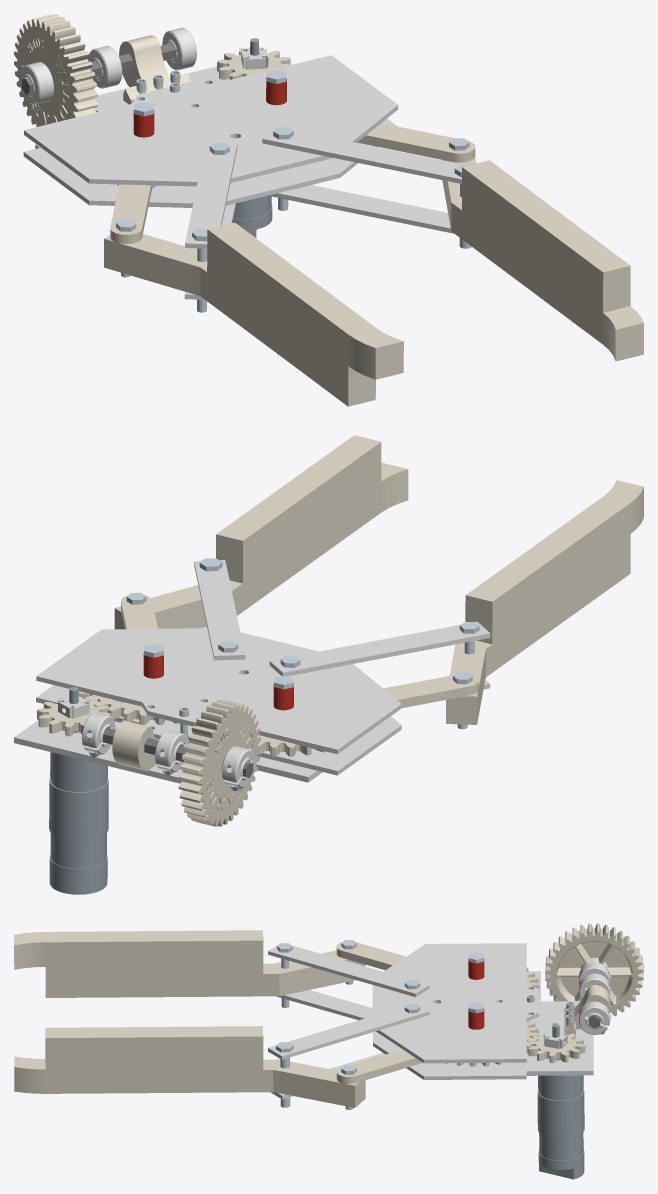
File: Robot_Jimmeh V4_1.glb
The picture shows the model from 3 angles, top to bottom: view 1: azimuth 30°, elevation 25°; view 2: azimuth 150°, elevation 25°; view 3: azimuth 270°, elevation 25°; orthographic projection. The views are drawn at different scales.
Parts seen in each view (by area): view 1: Top Plate, Finger R, Finger L, Crossbeam A (×2), Output Wrist Gear, Bottom Plate, Crossbeam B, Gear Link A, Wrist Coupling, Gear Link B, Neverest, Input Gear (+5 smaller); view 2: Top Plate, Finger L, Finger R, Neverest, Output Wrist Gear, Crossbeam B, Bottom Plate, Mount Plate, Crossbeam A, Gear Link B, Gear Link A, Wrist Coupling (+4 smaller); view 3: Finger L, Finger R, Top Plate, Output Wrist Gear, Neverest, Crossbeam B (×2), Mount Plate, Bottom Plate, Crossbeam A, Gear Link A, Gear Link B, Input Gear (+3 smaller).
Boxes of the visible parts, bbox=[...] form: Top Plate: bbox=[24, 55, 398, 186]; Finger R: bbox=[104, 222, 403, 406]; Finger L: bbox=[442, 157, 643, 361]; Crossbeam A (×2): bbox=[262, 126, 461, 233]; Output Wrist Gear: bbox=[14, 14, 97, 126]; Bottom Plate: bbox=[23, 118, 397, 207]; Crossbeam B: bbox=[185, 143, 237, 248]; Gear Link A: bbox=[357, 123, 475, 162]; Wrist Coupling: bbox=[119, 35, 190, 104]; Gear Link B: bbox=[110, 184, 157, 243]; Neverest: bbox=[232, 38, 272, 237]; Input Gear: bbox=[217, 47, 290, 79]; Top Plate: bbox=[36, 628, 401, 754]; Finger L: bbox=[114, 435, 408, 629]; Finger R: bbox=[446, 480, 643, 724]; Neverest: bbox=[49, 687, 108, 894]; Output Wrist Gear: bbox=[178, 699, 260, 826]; Crossbeam B: bbox=[269, 621, 490, 676]; Bottom Plate: bbox=[36, 685, 401, 775]; Mount Plate: bbox=[14, 720, 322, 783]; Crossbeam A: bbox=[194, 560, 245, 660]; Gear Link B: bbox=[257, 675, 478, 756]; Gear Link A: bbox=[78, 595, 179, 724]; Wrist Coupling: bbox=[112, 720, 156, 770]; Finger L: bbox=[14, 1026, 365, 1107]; Finger R: bbox=[14, 930, 365, 997]; Top Plate: bbox=[372, 943, 538, 1063]; Output Wrist Gear: bbox=[545, 923, 643, 1015]; Neverest: bbox=[537, 1024, 584, 1179]; Crossbeam B (×2): bbox=[268, 942, 429, 1020]; Mount Plate: bbox=[526, 971, 593, 1075]; Bottom Plate: bbox=[373, 1016, 538, 1079]; Crossbeam A: bbox=[268, 1003, 429, 1059]; Gear Link A: bbox=[336, 1021, 539, 1083]; Gear Link B: bbox=[336, 942, 539, 991]; Input Gear: bbox=[527, 1031, 585, 1063].
Size of the model in its own units: 0.2677 by 0.1637 by 0.5119.
